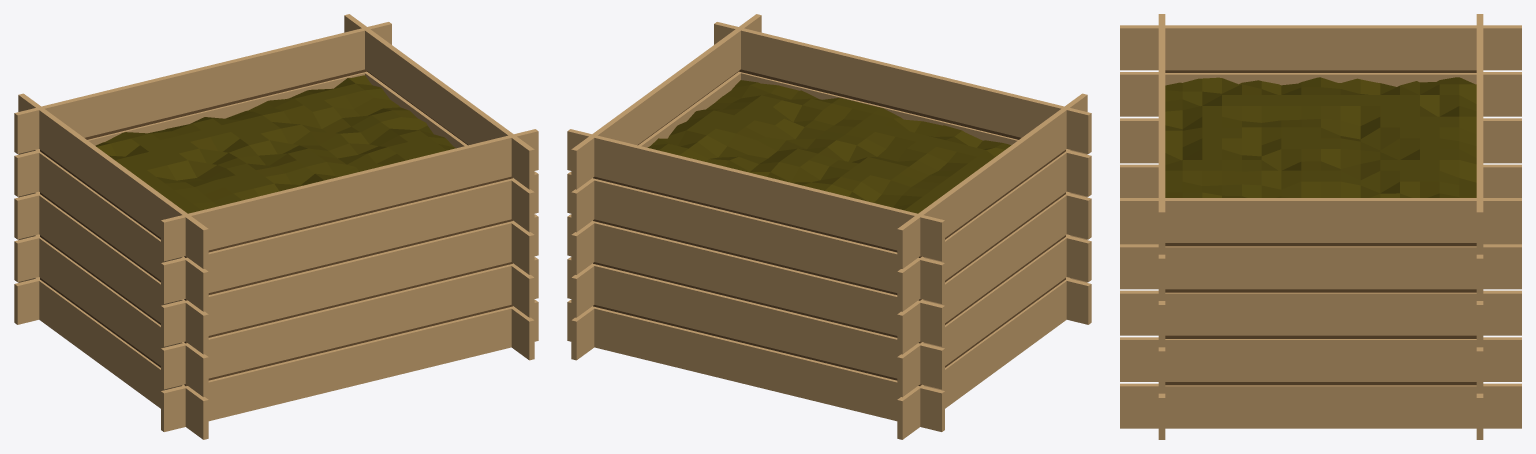
The model's file is mod_BG_Compost.fbx.
The picture shows the model from 3 angles, left to right: view 1: azimuth 30°, elevation 25°; view 2: azimuth 150°, elevation 25°; view 3: azimuth 270°, elevation 25°; orthographic projection. The views are drawn at different scales.
Parts seen in each view (by area): view 1: Cube.003; view 2: Cube.003; view 3: Cube.003.
Part boxes in pixels (<box>): Cube.003: <box>14,14,538,439</box>; Cube.003: <box>567,14,1091,439</box>; Cube.003: <box>1120,14,1521,439</box>.
Bounding box in the file's own units: 116 × 61.8 × 98.94.
